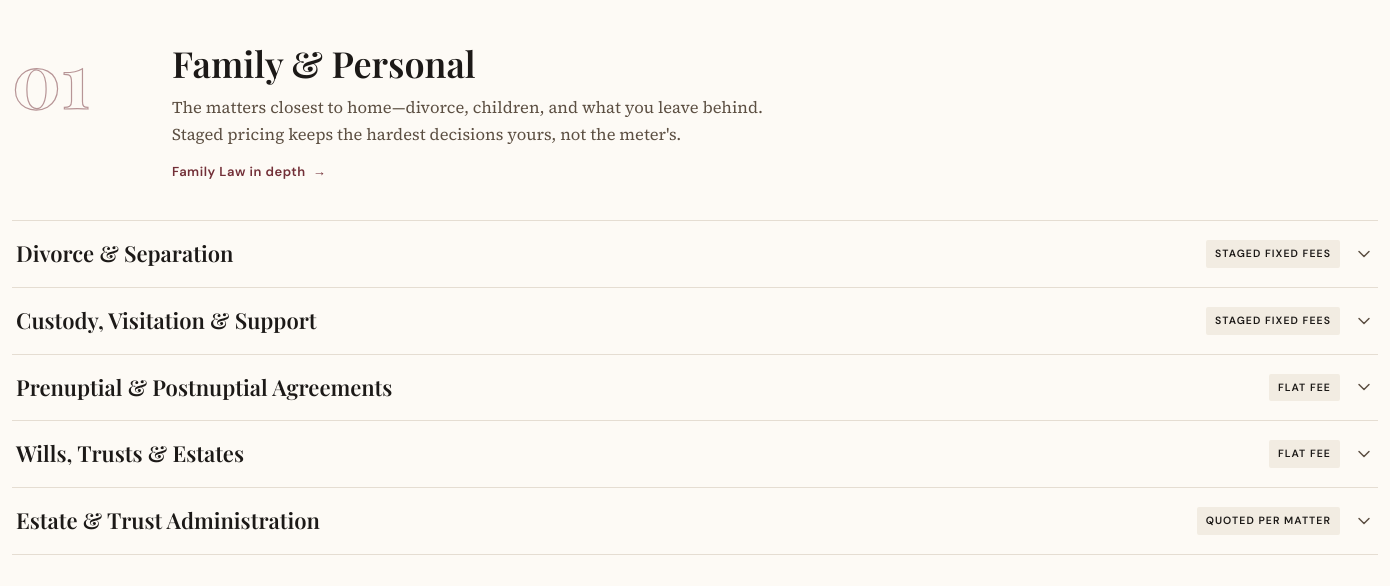
Scenario: PracticeDirectory › allows multiple panels open at once (independent disclosures)
Click the button "Divorce & Separation Staged fixed fees".
click(125, 253)  # box [12,221,1378,287]
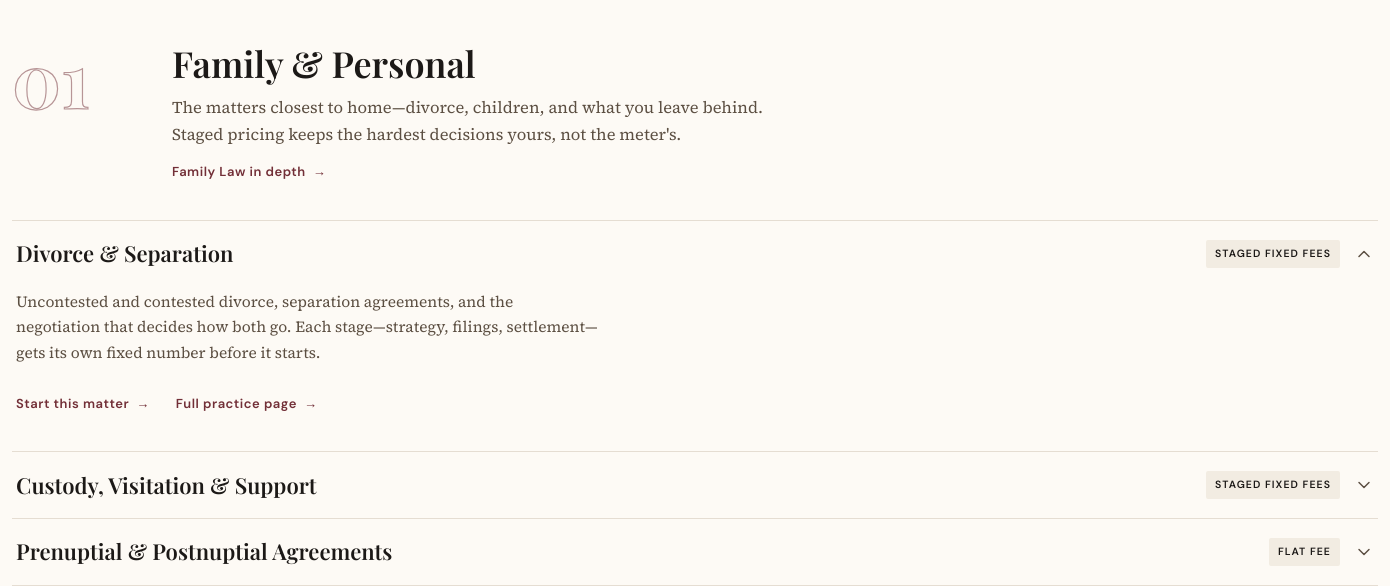
Click the button "Custody, Visitation & Support Staged fixed fees".
click(166, 485)  # box [12,452,1378,518]
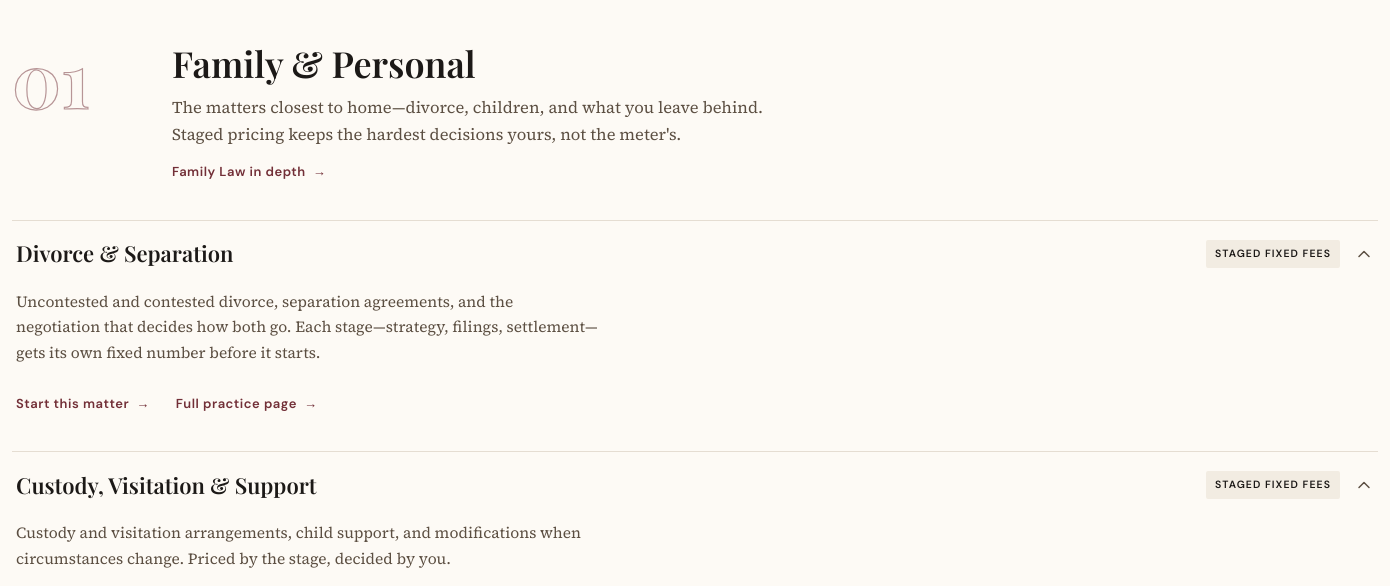
Now the button "Divorce & Separation Staged fixed fees" is expanded, box [12,221,1378,287]
Now the button "Custody, Visitation & Support Staged fixed fees" is expanded, box [12,452,1378,518]
